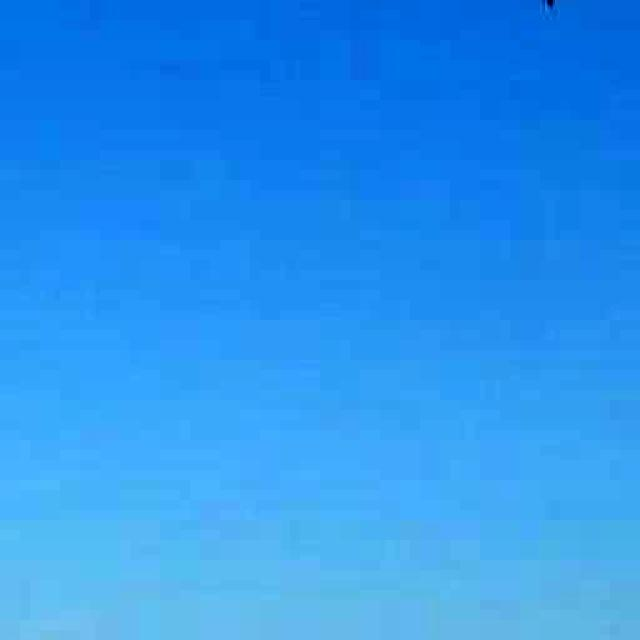bird: (521, 0, 599, 21)
